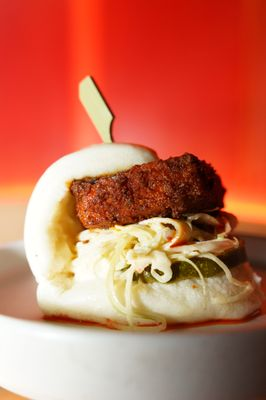sushi: (22, 143, 265, 331)
